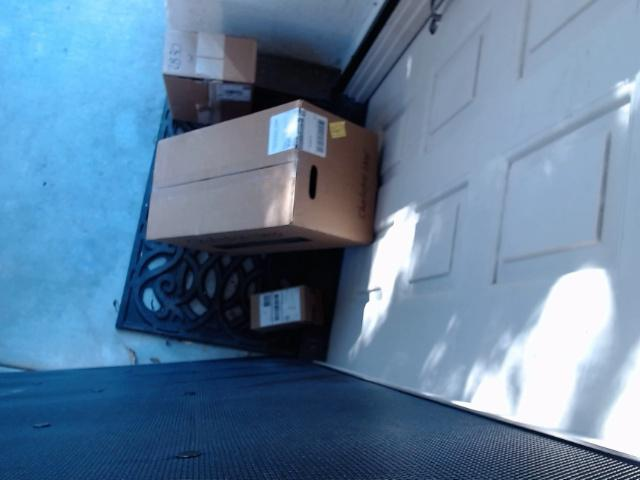box: (147, 100, 379, 255), (163, 29, 257, 124), (250, 284, 327, 332)
